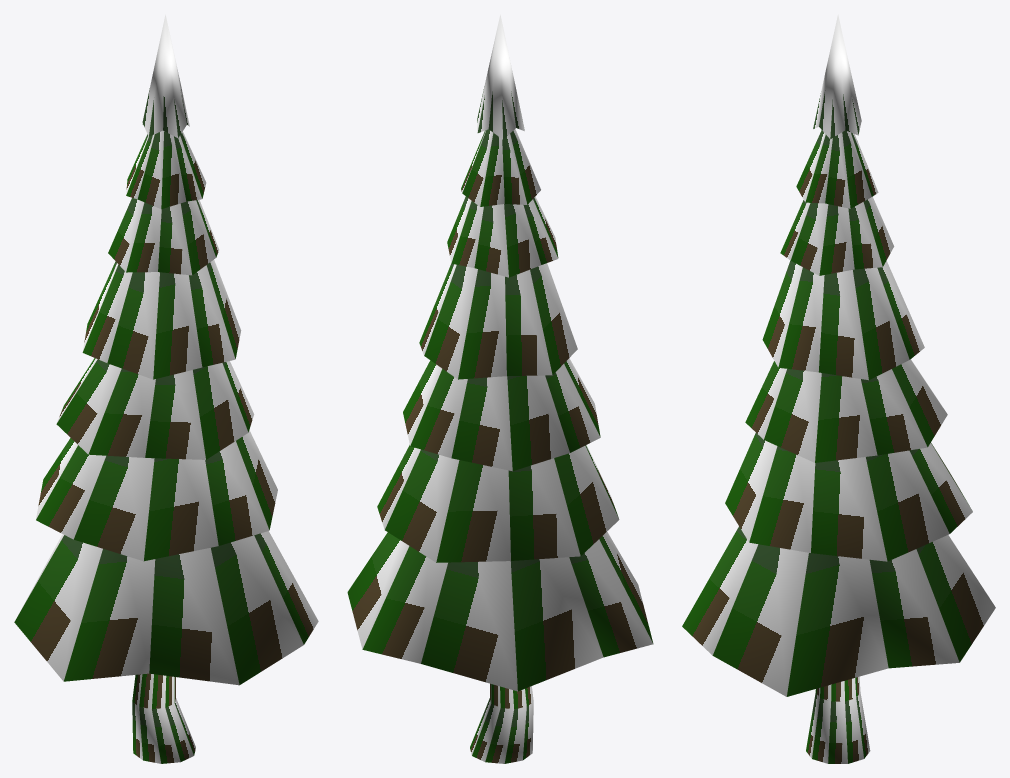
Rendered from pine.obj.
3 views of the same model, side by side, from view 1: azimuth 30°, elevation 25°; view 2: azimuth 150°, elevation 25°; view 3: azimuth 270°, elevation 25° (orthographic).
Parts seen in each view (by area): view 1: Cylinder; view 2: Cylinder; view 3: Cylinder.
Boxes of the visible parts, x1,y1,x2,y2 form: Cylinder: (14,14,318,763); Cylinder: (347,14,653,763); Cylinder: (682,14,995,763).
Size of the model in its own units: 3.18 by 8.78 by 3.39.
